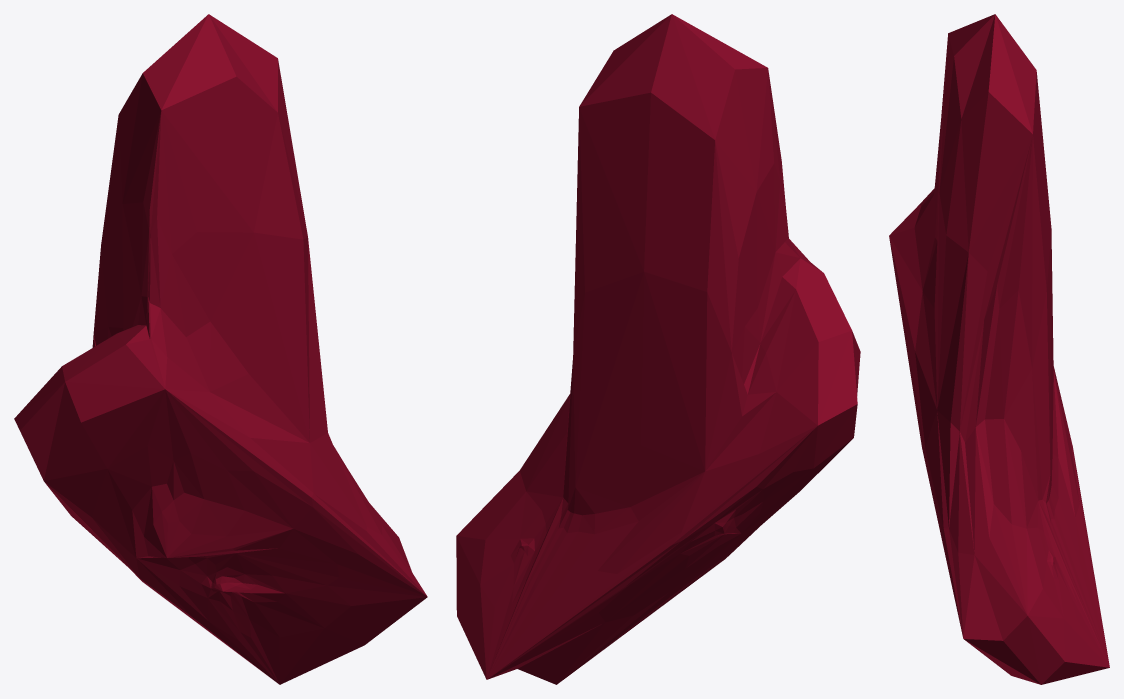
3 views of the same model, side by side, from view 1: azimuth 30°, elevation 25°; view 2: azimuth 150°, elevation 25°; view 3: azimuth 270°, elevation 25° (orthographic). The views are drawn at different scales.
Parts seen in each view (by area): view 1: 018_Cube.084; view 2: 018_Cube.084; view 3: 018_Cube.084.
Boxes of the visible parts, x1,y1,x2,y2 form: 018_Cube.084: (14, 14, 427, 684); 018_Cube.084: (456, 14, 860, 684); 018_Cube.084: (889, 14, 1109, 684).
Size of the model in its own units: 9.52 by 16.15 by 5.2.
